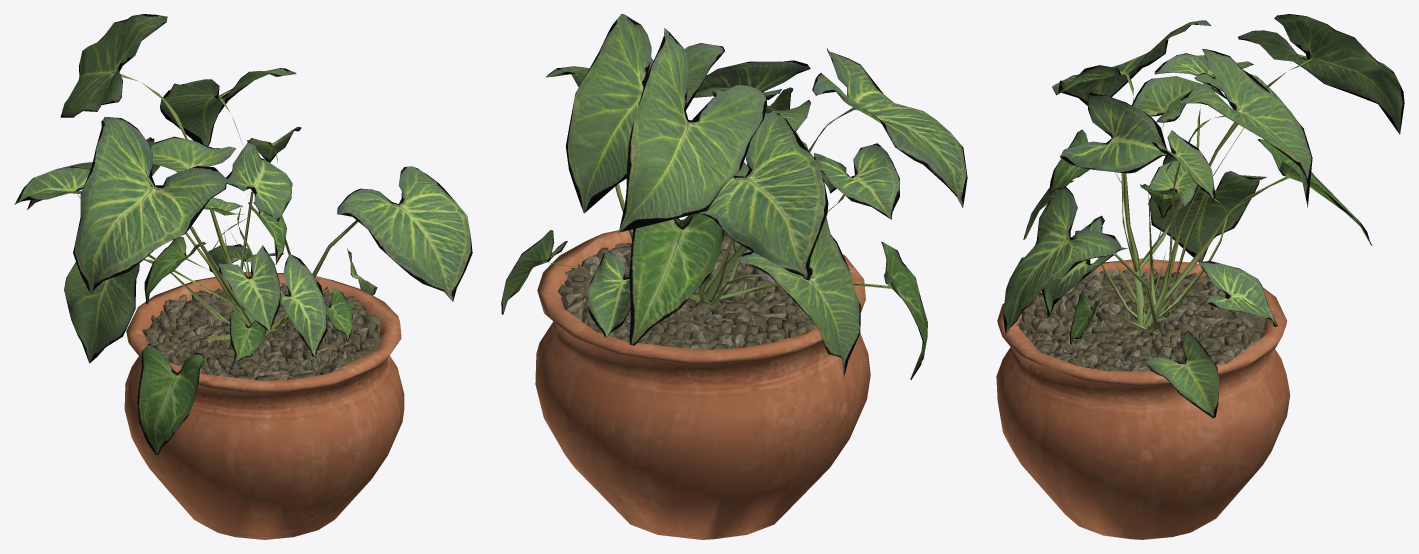
The model's file is potted_plant_02.glb.
3 renders of one model, left to right at view 1: azimuth 30°, elevation 25°; view 2: azimuth 150°, elevation 25°; view 3: azimuth 270°, elevation 25°, orthographic. The views are drawn at different scales.
Visible parts, largest first — view 1: potted_plant_02_leaves, potted_plant_02_pot; view 2: potted_plant_02_leaves, potted_plant_02_pot; view 3: potted_plant_02_pot, potted_plant_02_leaves.
Boxes of the visible parts, x1,y1,x2,y2 form: potted_plant_02_leaves: [14, 14, 472, 454]; potted_plant_02_pot: [124, 271, 404, 539]; potted_plant_02_leaves: [501, 14, 967, 379]; potted_plant_02_pot: [535, 219, 870, 539]; potted_plant_02_pot: [996, 258, 1290, 539]; potted_plant_02_leaves: [1003, 14, 1404, 418].
Size of the model in its own units: 0.7012 by 0.8401 by 0.6541.
2 materials, 2 textured.
